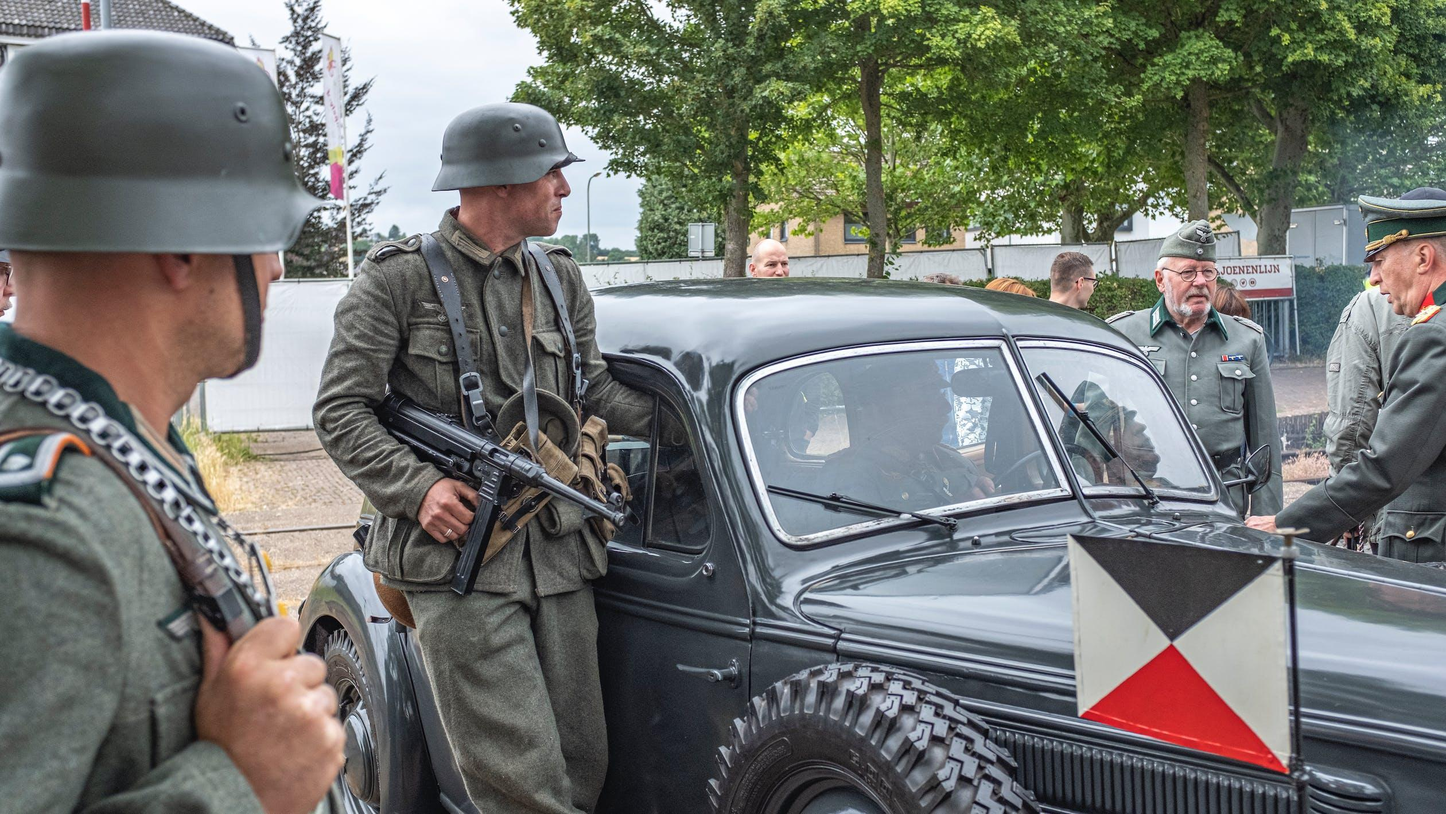larga: (377, 390, 629, 599)
